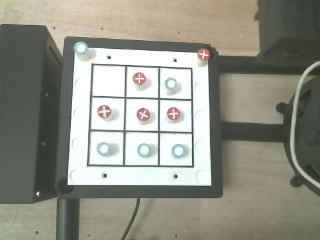blue circle: (96, 142, 111, 156), (137, 143, 151, 157), (74, 41, 88, 55), (172, 144, 185, 157), (165, 77, 176, 89)
board: (67, 41, 211, 185)
cells: (125, 132, 157, 165), (91, 97, 124, 129), (89, 132, 122, 164), (160, 133, 192, 165), (92, 65, 124, 96), (159, 100, 191, 131), (126, 99, 157, 130), (160, 68, 191, 98), (127, 67, 158, 97)
grid: (87, 64, 193, 167)
red cross: (97, 105, 111, 119), (167, 107, 180, 120), (133, 72, 145, 85), (137, 108, 150, 120), (197, 48, 209, 60)
